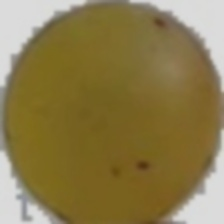grapes: (27, 52, 165, 209)
